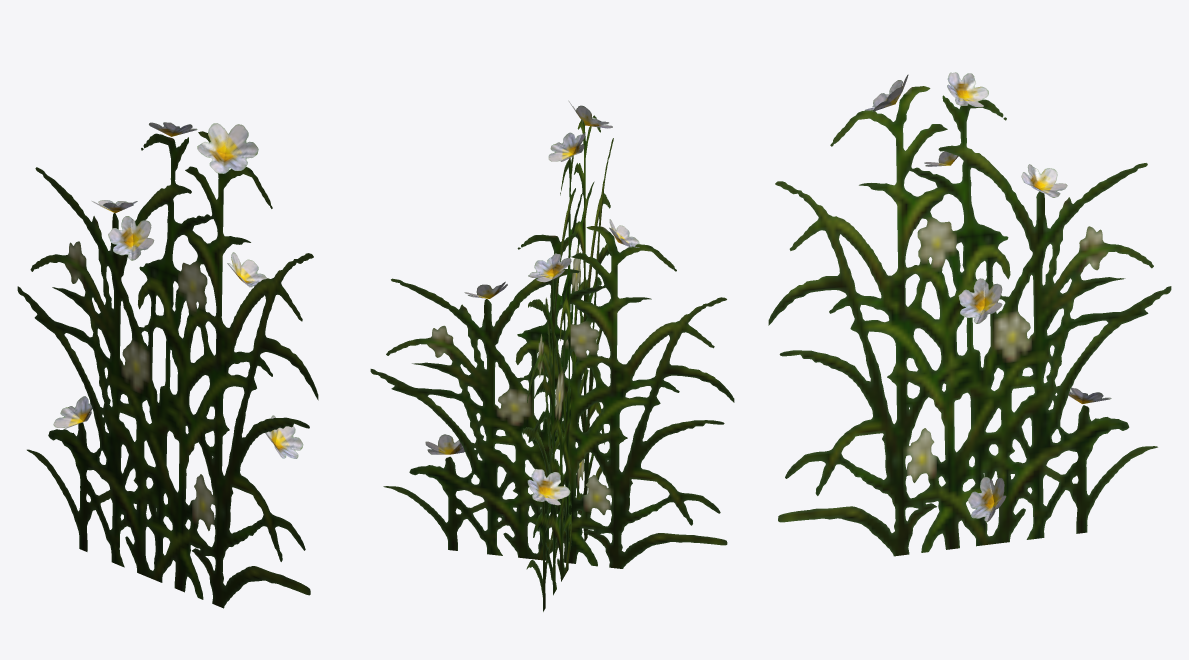
File: wm_灌木野花08.fbx
The picture shows the model from 3 angles, left to right: view 1: azimuth 30°, elevation 25°; view 2: azimuth 150°, elevation 25°; view 3: azimuth 270°, elevation 25°; orthographic projection. The views are drawn at different scales.
Visible parts, largest first — view 1: wm_灌木野花08; view 2: wm_灌木野花08; view 3: wm_灌木野花08.
Boxes of the visible parts, x1,y1,x2,y2 form: wm_灌木野花08: (17, 122, 318, 608); wm_灌木野花08: (370, 100, 734, 611); wm_灌木野花08: (768, 72, 1171, 556).
Bounding box in the file's own units: 94.69 × 133 × 94.82.
